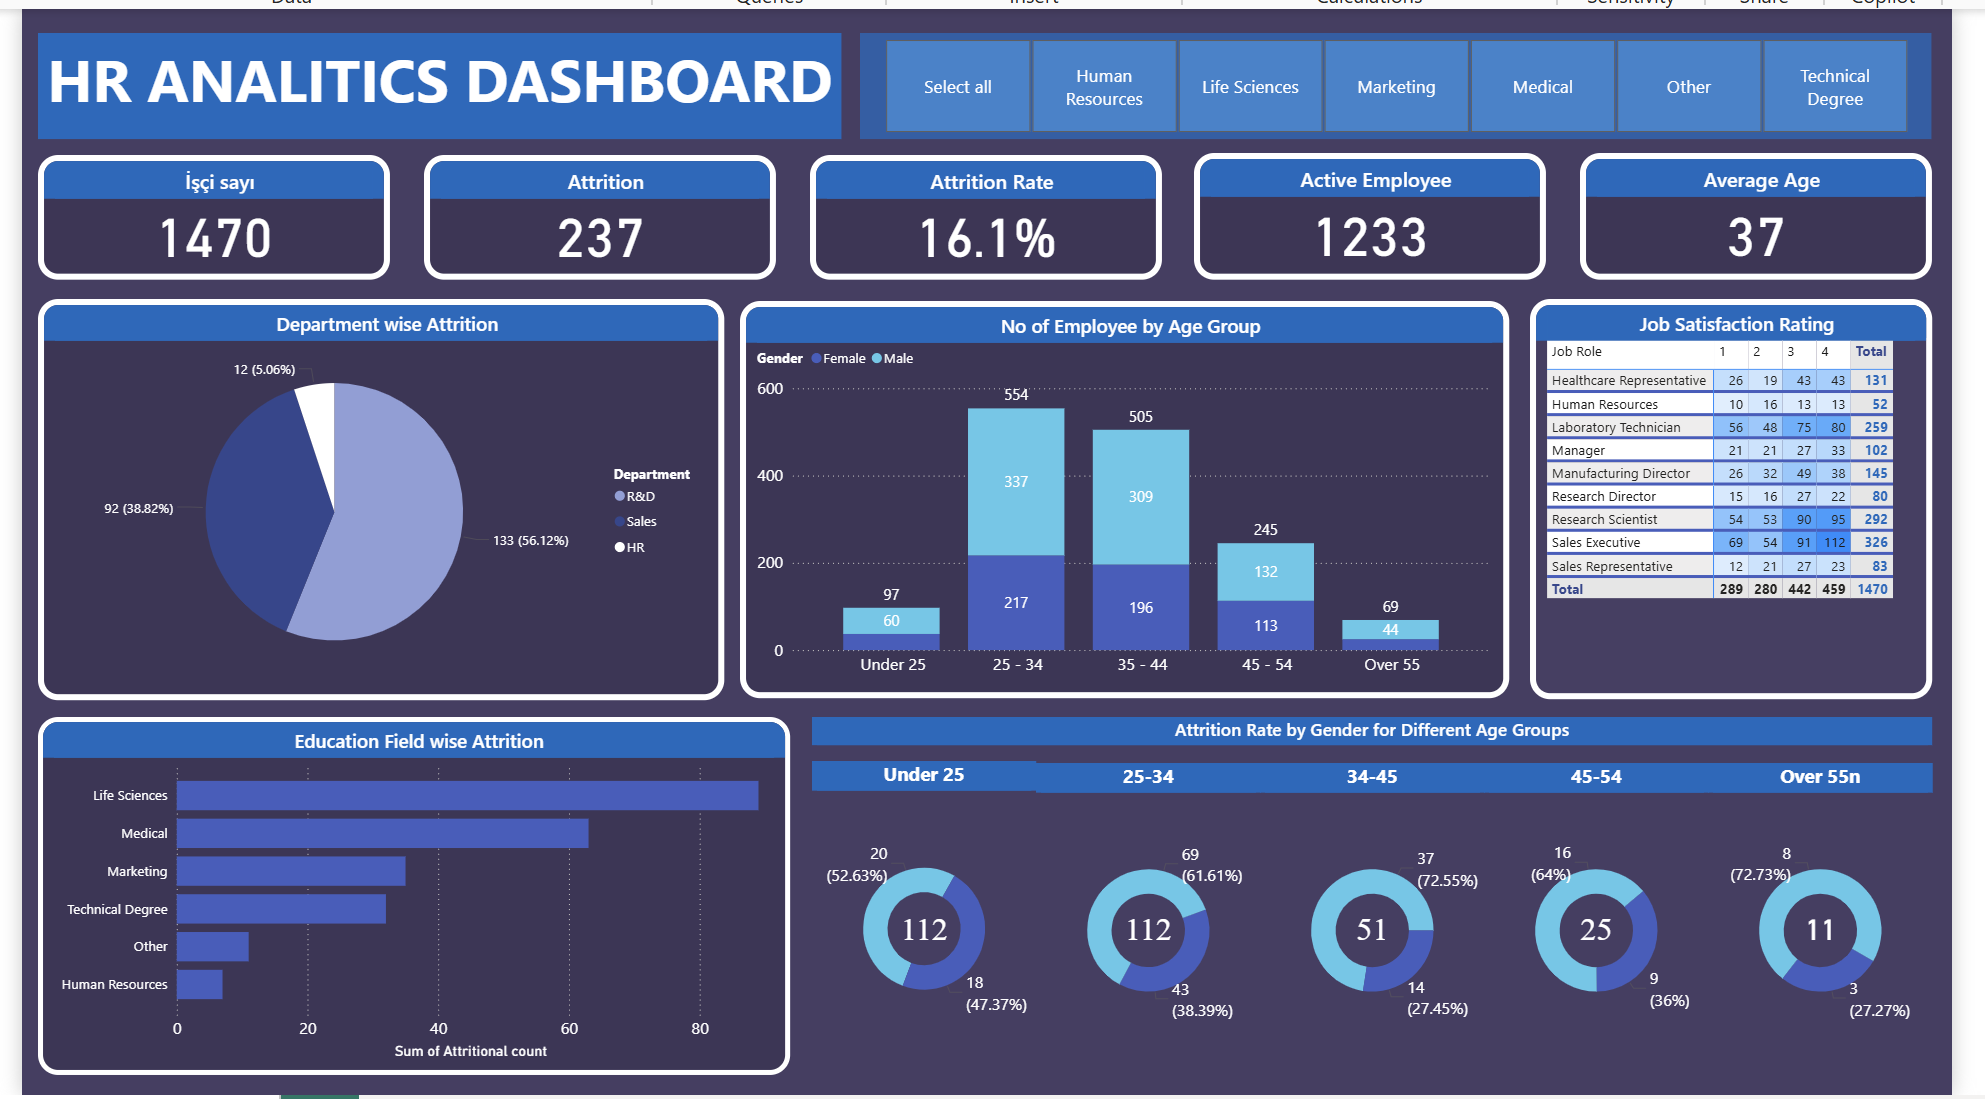

Layout of this report page (visuals, bound fields, positions):
{"tool":"powerbi","page":{"name":"hr_analytics_dashboard","canvas":[1920,1080],"ordinal":0},"visuals":[{"type":"card","title":"İşçi sayı","fields":{"Values":["Sum(HR data.Employee Count)"]},"box":[16,145.2,350,124],"z":0},{"type":"card","title":"Attrition","fields":{"Values":["Sum(HR data.Attritional count)"]},"box":[399.5,145.2,350,124],"z":1000},{"type":"card","title":"Attrition Rate","fields":{"Values":["HR data.Attrition Rate"]},"box":[783,145.2,350,124],"z":2000},{"type":"card","title":"Active Employee","fields":{"Values":["HR data.Active Employee"]},"box":[1166.5,144.2,350,126],"z":3000},{"type":"card","title":"Average Age","fields":{"Values":["Avg(HR data.Age)"]},"box":[1550,144.2,350,126],"z":4000},{"type":"pieChart","title":"Department wise Attrition","fields":{"Category":["HR data.Department"],"Y":["Sum(HR data.Attritional count)"]},"box":[16.2,287.5,682.5,398.8],"z":5000},{"type":"barChart","title":"Education Field wise Attrition","fields":{"Category":["HR data.Education Field"],"Y":["Sum(HR data.Attritional count)"]},"box":[16,704,748,356],"z":6000},{"type":"columnChart","title":"No of Employee by Age Group","fields":{"Category":["HR data.CF_age band"],"Y":["Sum(HR data.Employee Count)"],"Series":["HR data.Gender"]},"box":[715,290,765,395],"z":7000},{"type":"textbox","title":"Attrition Rate by Gender for Different Age Groups","box":[786,704,1114,28],"z":8000},{"type":"pivotTable","title":"Job Satisfaction Rating","fields":{"Rows":["HR data.Job Role"],"Columns":["HR data.Job Satisfaction"],"Values":["Sum(HR data.Employee Count)"]},"box":[1500,288,400,398],"z":9000},{"type":"donutChart","title":"25-34","fields":{"Category":["HR data.Gender"],"Y":["Sum(HR data.Attritional count)"],"Series":["HR data.CF_age band"]},"box":[1007.8,748.9,223.4,308.5],"z":10000},{"type":"textbox","box":[16.1,23,799.2,105.6],"z":11000},{"type":"donutChart","title":"Under 25","fields":{"Category":["HR data.Gender"],"Y":["Sum(HR data.Attritional count)"],"Series":["HR data.CF_age band"]},"box":[785.5,748.7,222.9,309],"z":12000},{"type":"donutChart","title":"34-45","fields":{"Category":["HR data.Gender"],"Y":["Sum(HR data.Attritional count)"],"Series":["HR data.CF_age band"]},"box":[1230.5,748.9,223.4,308.5],"z":13000},{"type":"donutChart","title":"Over 55n ","fields":{"Category":["HR data.Gender"],"Y":["Sum(HR data.Attritional count)"],"Series":["HR data.CF_age band"]},"box":[1676,748.9,223.4,308.5],"z":14000},{"type":"donutChart","title":"45-54","fields":{"Category":["HR data.Gender"],"Y":["Sum(HR data.Attritional count)"],"Series":["HR data.CF_age band"]},"box":[1453.2,748.9,223.4,308.5],"z":15000},{"type":"card","fields":{"Values":["Sum(HR data.Attritional count)"]},"box":[847.2,860,100.2,109.2],"z":16000},{"type":"card","fields":{"Values":["Sum(HR data.Attritional count)"]},"box":[1069.8,860,100.2,109.2],"z":17000},{"type":"card","fields":{"Values":["Sum(HR data.Attritional count)"]},"box":[1292.4,860,100.2,109.2],"z":18000},{"type":"card","fields":{"Values":["Sum(HR data.Attritional count)"]},"box":[1514.9,860,100.2,109.2],"z":19000},{"type":"card","fields":{"Values":["Sum(HR data.Attritional count)"]},"box":[1737.5,860,100.2,109.2],"z":20000},{"type":"slicer","fields":{"Values":["HR data.Education Field"]},"box":[833.7,23,1065.6,105.6],"z":21000}]}

Visuals, with their boxes on the page's 1920x1080 design canvas (x1, y1, x2, y2). These are canvas units, not pixel positions in the 1985x1099 screenshot, which may show the page scaled, cropped or inside an application window:
"İşçi sayı" card: [16,145,366,269]
"Attrition" card: [400,145,750,269]
"Attrition Rate" card: [783,145,1133,269]
"Active Employee" card: [1166,144,1516,270]
"Average Age" card: [1550,144,1900,270]
"Department wise Attrition" pieChart: [16,288,699,686]
"Education Field wise Attrition" barChart: [16,704,764,1060]
"No of Employee by Age Group" columnChart: [715,290,1480,685]
"Attrition Rate by Gender for Different Age Groups" textbox: [786,704,1900,732]
"Job Satisfaction Rating" pivotTable: [1500,288,1900,686]
"25-34" donutChart: [1008,749,1231,1057]
textbox: [16,23,815,129]
"Under 25" donutChart: [786,749,1008,1058]
"34-45" donutChart: [1230,749,1454,1057]
"Over 55n " donutChart: [1676,749,1899,1057]
"45-54" donutChart: [1453,749,1677,1057]
card - Sum(HR data.Attritional count): [847,860,947,969]
card - Sum(HR data.Attritional count): [1070,860,1170,969]
card - Sum(HR data.Attritional count): [1292,860,1393,969]
card - Sum(HR data.Attritional count): [1515,860,1615,969]
card - Sum(HR data.Attritional count): [1738,860,1838,969]
slicer - HR data.Education Field: [834,23,1899,129]
